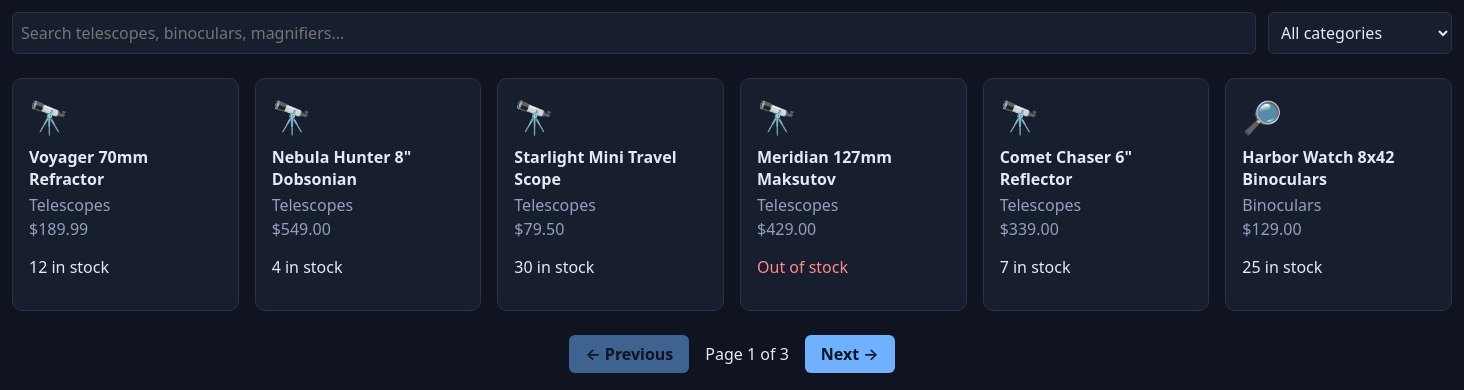
Test case: CatalogPage search › narrows results to matching products as the user types
The width and height of the screenshot is (1464, 390).
Expected: the heading "Voyager 70mm Refractor" is shown, x1=29 y1=146 x2=148 y2=190
Type "Nebula" into the search field named "Search products".
click(634, 33); type("Nebula")  # box x1=12 y1=12 x2=1256 y2=54
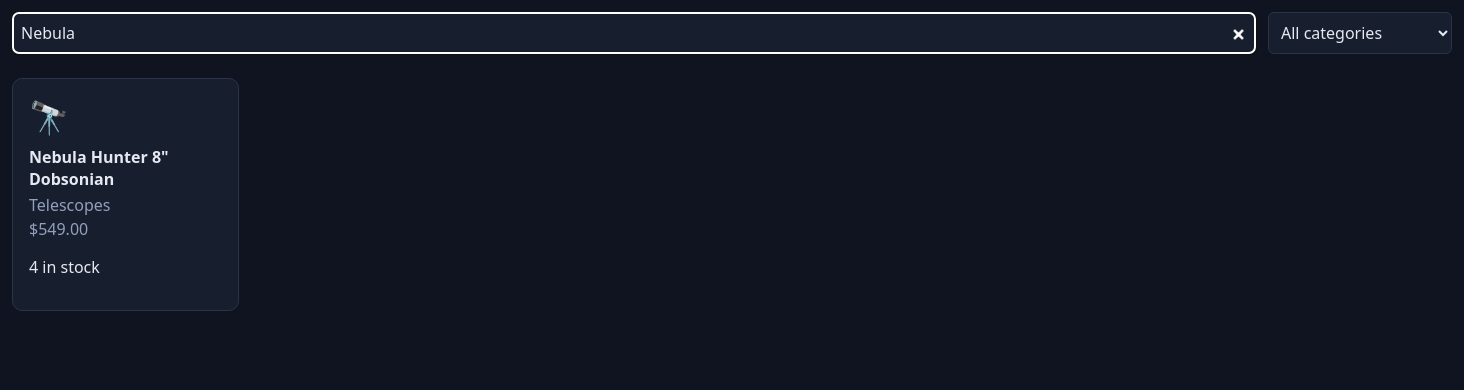
Expected: the heading "Nebula Hunter 8\" Dobsonian" is shown, x1=29 y1=146 x2=169 y2=190
Expected: the link "Voyager 70mm Refractor" is gone
